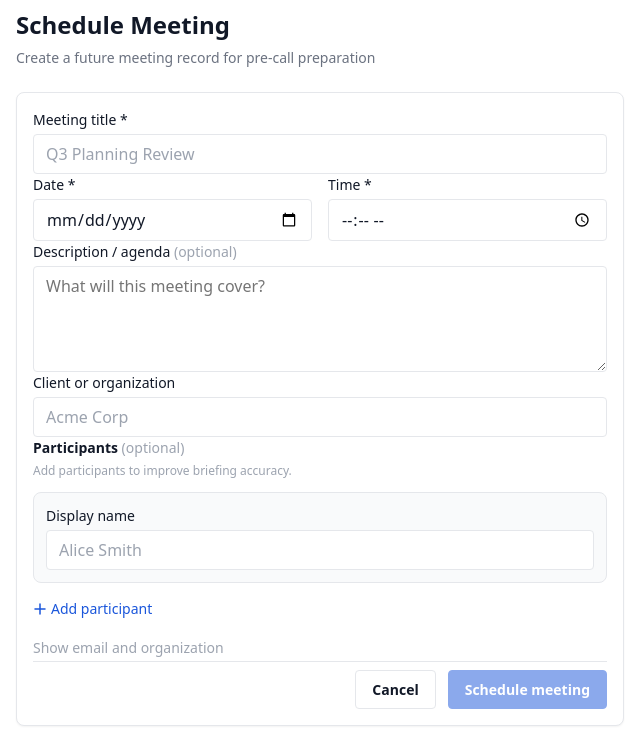
it: NewMeetingPage — participant rows (FR-22) › shows email and organization when advanced toggle is clicked
Click the button "Show email and organization": (128, 648) [33,634,607,661]
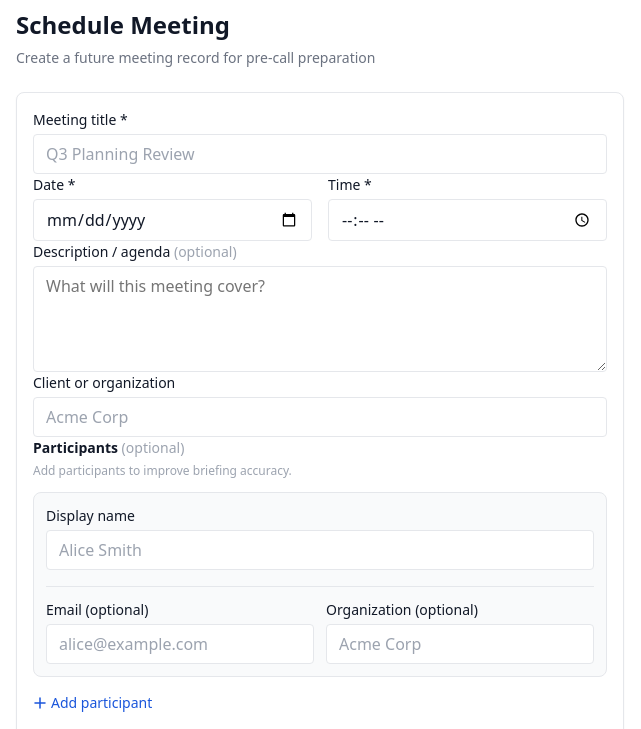
Now the field labelled "Email (optional)" is shown, box [46,624,314,664]
Now the field labelled "Organization (optional)" is shown, box [326,624,594,664]
